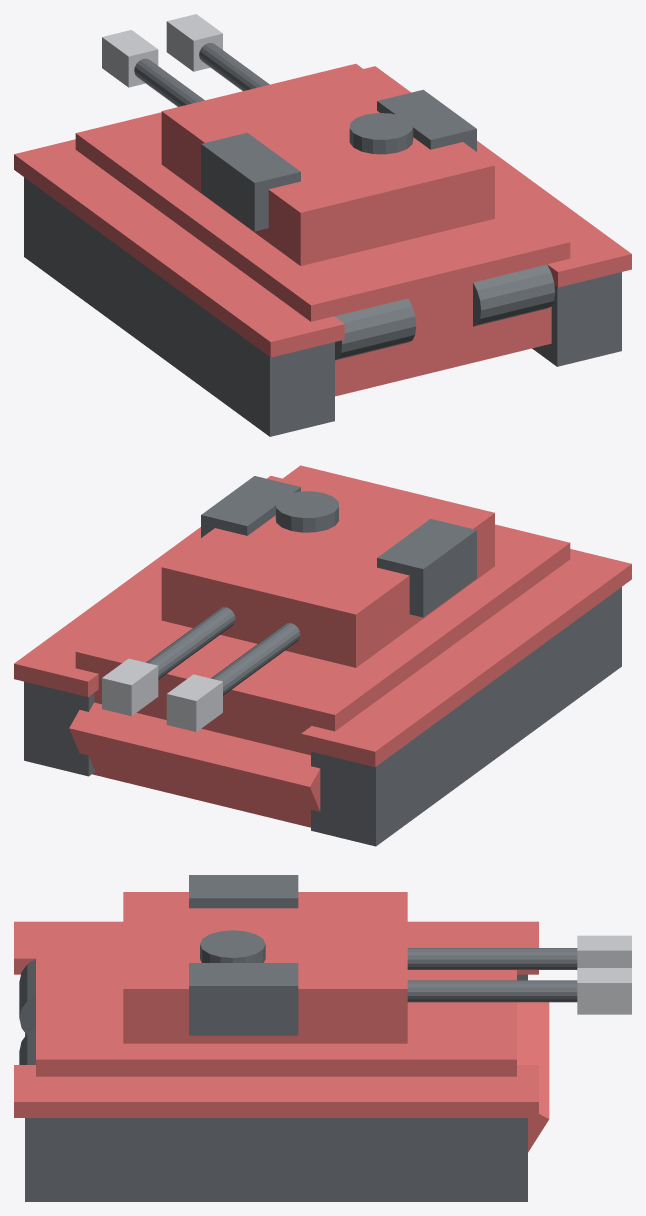
The model's file is soviet_tank_1791454607116.glb.
The picture shows the model from 3 angles, top to bottom: view 1: azimuth 30°, elevation 25°; view 2: azimuth 150°, elevation 25°; view 3: azimuth 270°, elevation 25°; orthographic projection. The views are drawn at different scales.
Parts seen in each view (by area): view 1: Soviet_Tank; view 2: Soviet_Tank; view 3: Soviet_Tank.
Part boxes in pixels (x1,y1,x2,y2): Soviet_Tank: [14, 14, 631, 436]; Soviet_Tank: [14, 465, 631, 846]; Soviet_Tank: [14, 875, 631, 1201].
Size of the model in its own units: 3.9 by 1.95 by 5.65.
